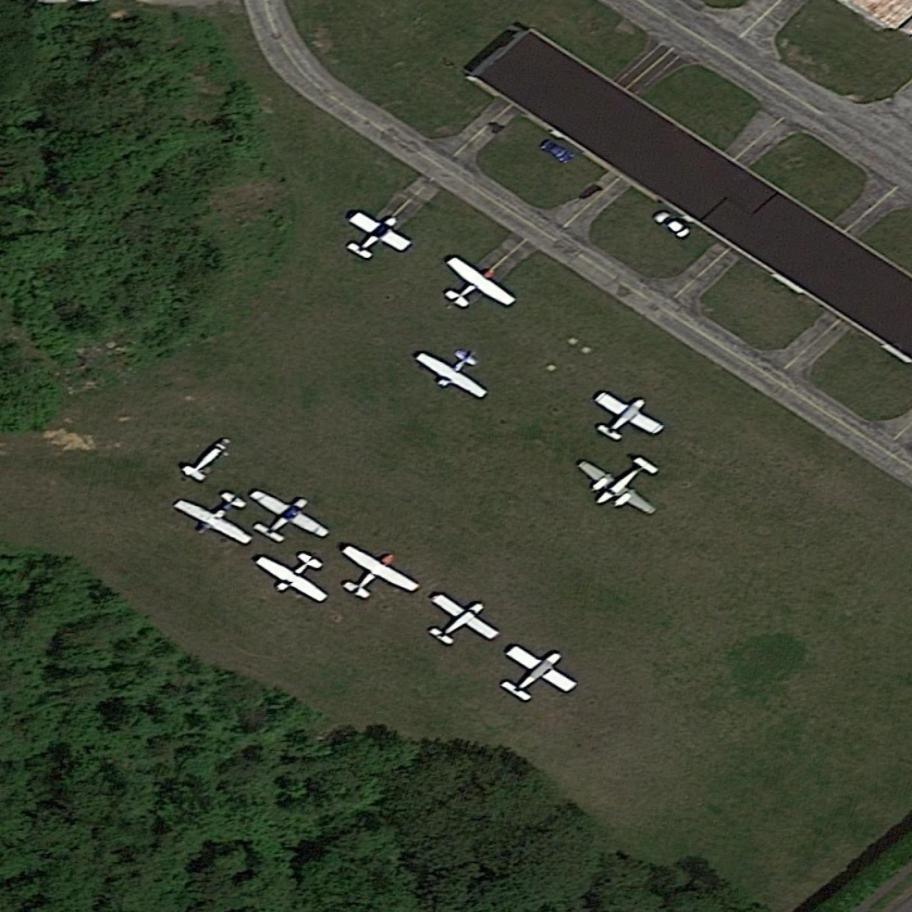plane: (557, 423, 688, 544), (226, 463, 347, 568), (480, 619, 593, 725), (317, 521, 433, 622), (406, 570, 514, 670), (422, 235, 529, 334), (163, 467, 273, 562), (246, 528, 350, 619), (575, 370, 679, 461), (408, 324, 512, 414), (328, 190, 426, 279)
small-vehicle: (644, 202, 697, 247), (532, 133, 580, 173)
